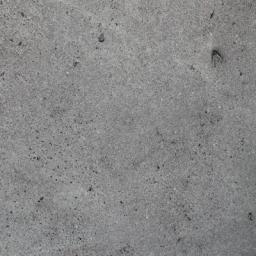FOD: (209, 50, 227, 70)
